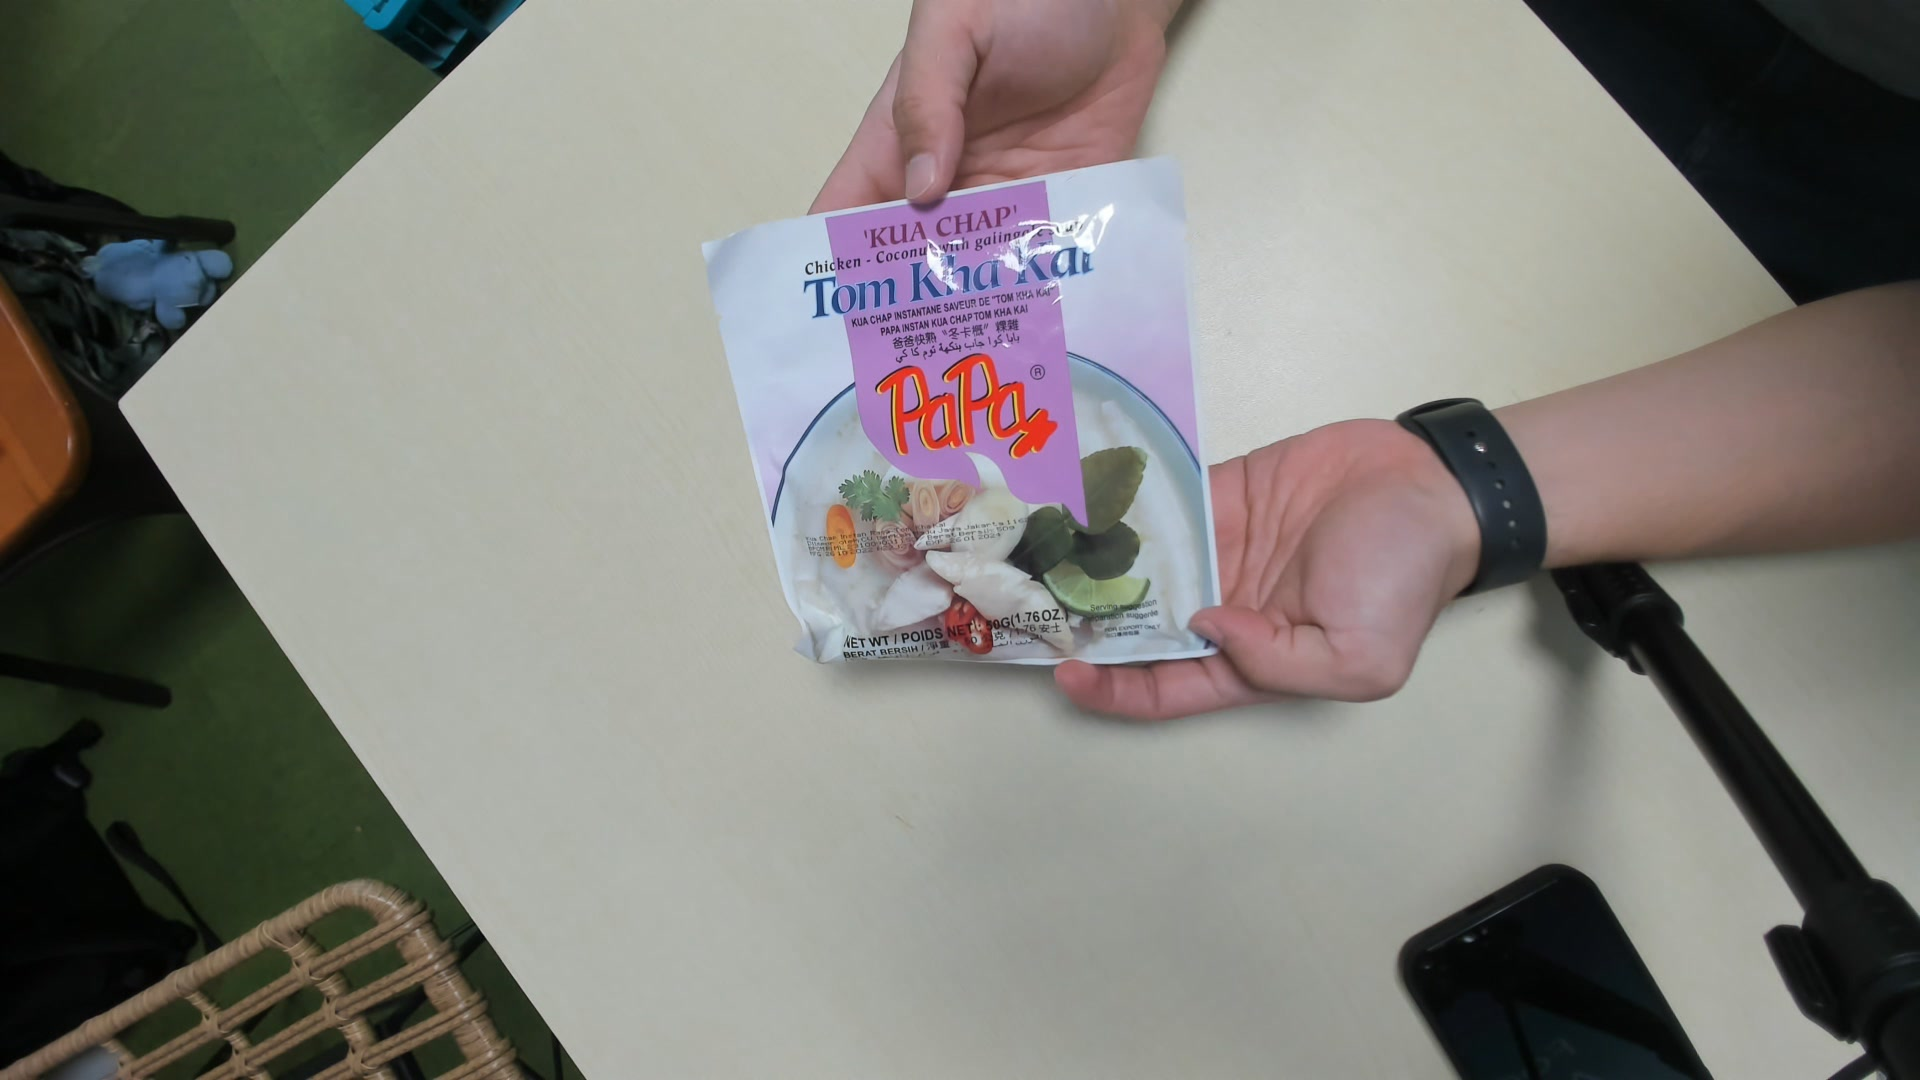OtherSauceDressing_0-99g_NonHalal_NonHealthy: (704, 162, 1234, 698)
